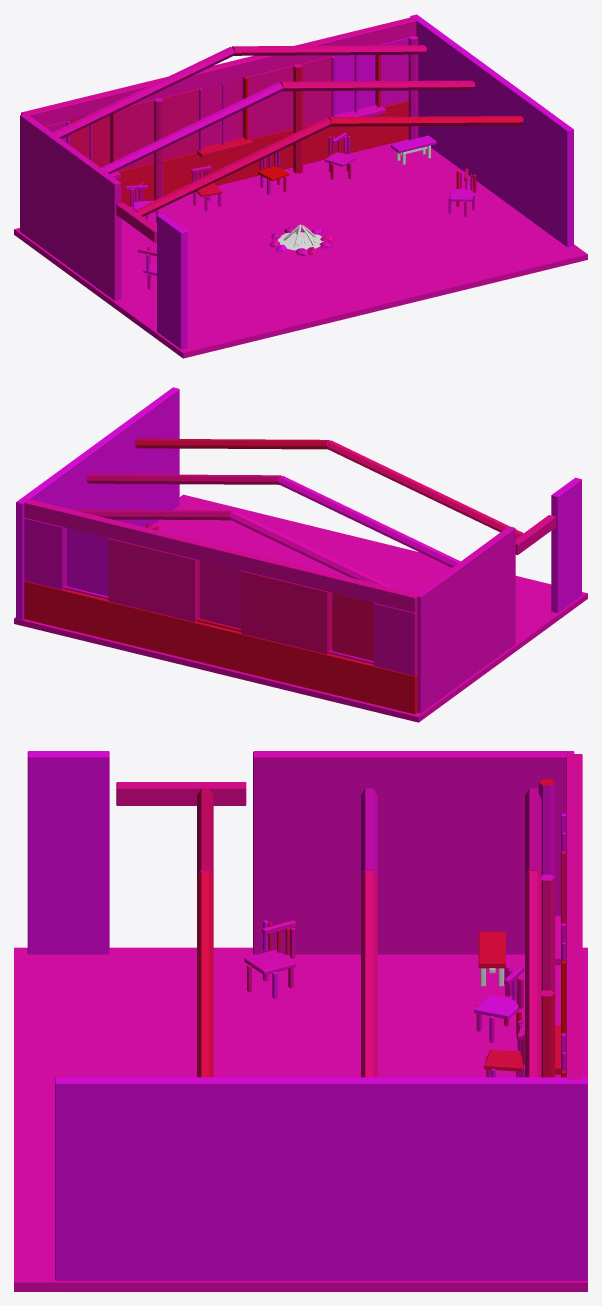
File: court_chapter_01.glb
The picture shows the model from 3 angles, top to bottom: view 1: azimuth 30°, elevation 25°; view 2: azimuth 150°, elevation 25°; view 3: azimuth 270°, elevation 25°; orthographic projection. The views are drawn at different scales.
Parts seen in each view (by area): view 1: Floor, WallRight, WallLeftRear, WallBackLow, WallBackHigh, WallBackPier_2, Rafters_2, WallBackPier_1, Rafters_1, Rafters_0, WallLeftFront, Glazing_1 (+15 smaller); view 2: Floor, WallBackLow, WallLeftRear, WallRight, WallBackHigh, WallBackPier_2, WallBackPier_1, Rafters_2, Rafters_1, WallLeftFront, Rafters_0, WallBackPier_0 (+5 smaller); view 3: WallRight, Floor, WallLeftRear, WallLeftFront, WallBackHigh, Rafters_1, Rafters_2, Rafters_0, DoorLintel, Chair_officials_2, Chair_officials_0, TimberPost_1 (+4 smaller).
Part boxes in pixels (box(x1,y1,x2,y2)): Floor: box(14, 139, 587, 358); WallRight: box(410, 14, 573, 247); WallLeftRear: box(20, 114, 121, 300); WallBackLow: box(116, 100, 408, 206); WallBackHigh: box(21, 16, 418, 126); WallBackPier_2: box(242, 56, 331, 139); Rafters_2: box(135, 116, 523, 216); WallBackPier_1: box(110, 88, 198, 171); Rafters_1: box(101, 80, 474, 174); Rafters_0: box(52, 45, 426, 138); WallLeftFront: box(157, 214, 187, 349); Glazing_1: box(201, 78, 242, 147); Floor: box(14, 494, 587, 722); WallBackLow: box(24, 581, 417, 714); WallLeftRear: box(415, 526, 515, 713); WallRight: box(16, 387, 179, 620); WallBackHigh: box(22, 498, 418, 612); WallBackPier_2: box(108, 538, 199, 622); WallBackPier_1: box(241, 570, 332, 654); Rafters_2: box(135, 438, 523, 538); Rafters_1: box(86, 474, 460, 567); WallLeftFront: box(551, 477, 581, 613); Rafters_0: box(73, 509, 394, 588); WallBackPier_0: box(373, 603, 417, 675); WallRight: box(55, 1077, 587, 1280); Floor: box(14, 947, 587, 1291); WallLeftRear: box(253, 751, 574, 954); WallLeftFront: box(27, 751, 109, 954); WallBackHigh: box(566, 754, 582, 1079); Rafters_1: box(361, 788, 377, 1077); Rafters_2: box(197, 788, 213, 1077); Rafters_0: box(525, 788, 541, 1077); DoorLintel: box(116, 782, 246, 805); Chair_officials_2: box(244, 920, 296, 998); Chair_officials_0: box(474, 965, 524, 1043); TimberPost_1: box(541, 874, 555, 992).
Bounding box in the file's own units: 11.6 × 4.1 × 8.4.
